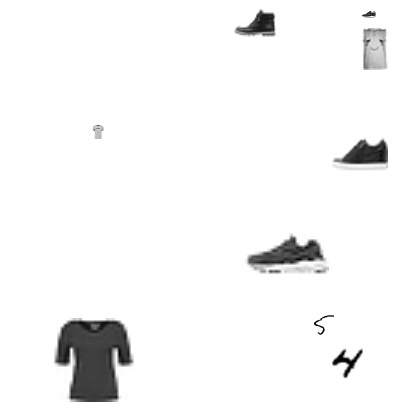4: (325, 340, 367, 382)
5: (308, 309, 336, 337)
Ankle_boot: (234, 2, 276, 44)
Sneaker: (245, 210, 329, 294), (332, 126, 388, 182), (362, 7, 376, 21)
T-shirt/top: (52, 318, 136, 402), (353, 28, 395, 70), (91, 125, 105, 139)
